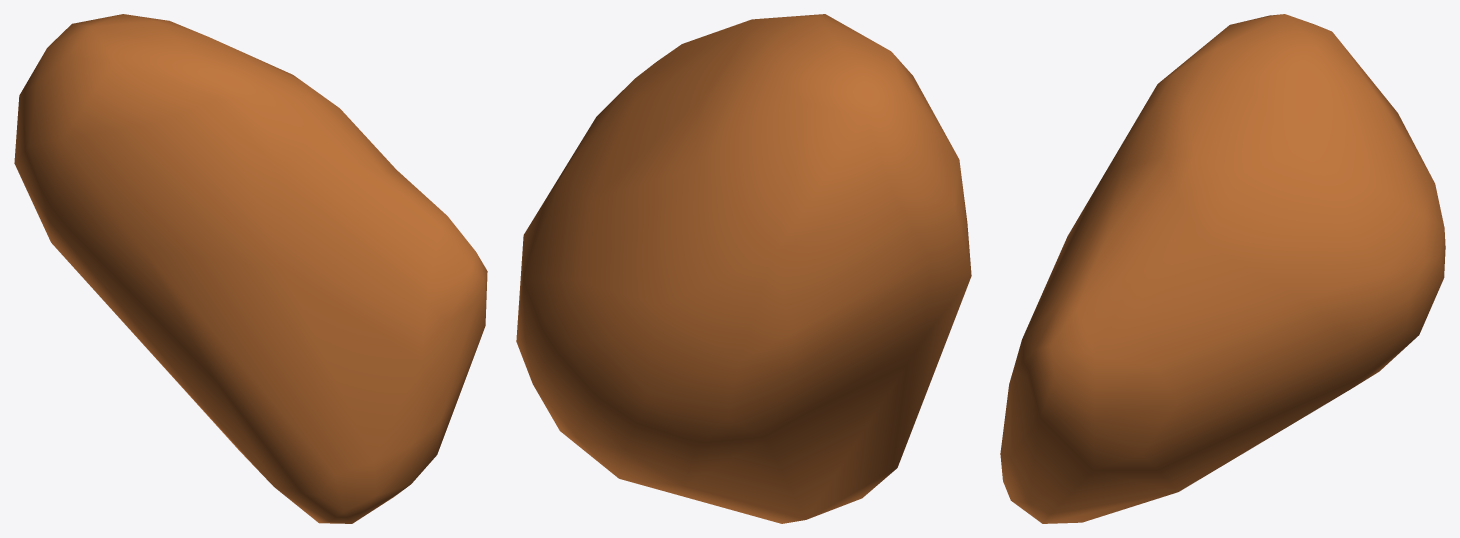
File: Medial_geniculate_body_left.glb
The picture shows the model from 3 angles, left to right: view 1: azimuth 30°, elevation 25°; view 2: azimuth 150°, elevation 25°; view 3: azimuth 270°, elevation 25°; orthographic projection. The views are drawn at different scales.
Parts seen in each view (by area): view 1: Medial_geniculate_body.l_grp1.069; view 2: Medial_geniculate_body.l_grp1.069; view 3: Medial_geniculate_body.l_grp1.069.
Part boxes in pixels (x1,y1,x2,y2): Medial_geniculate_body.l_grp1.069: [14, 14, 487, 523]; Medial_geniculate_body.l_grp1.069: [516, 14, 971, 523]; Medial_geniculate_body.l_grp1.069: [1000, 14, 1445, 523].
Size of the model in its own units: 0.00633 by 0.00744 by 0.00686.
